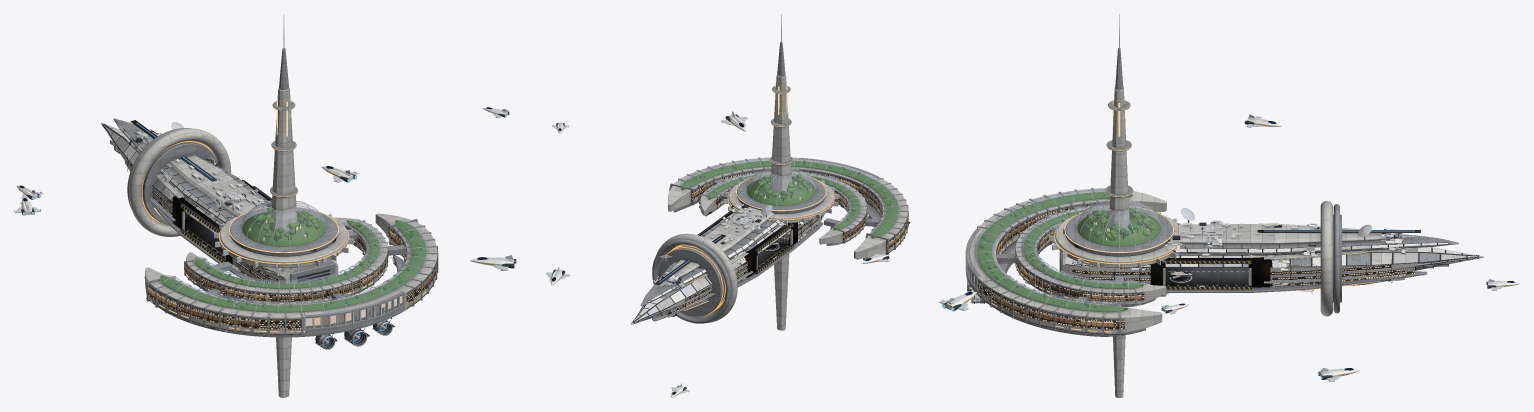
Rendered from ship.glb.
3 views of the same model, side by side, from view 1: azimuth 30°, elevation 25°; view 2: azimuth 150°, elevation 25°; view 3: azimuth 270°, elevation 25° (orthographic). The views are drawn at different scales.
Parts seen in each view (by area): view 1: ship_hull, ship_vault, ship_lawn, ship_dark, ship_glass, ship_facade, ship_small_pearl, ship_metal, ship_gallery, ship_bay, ship_small_white, ship_viewglass (+5 smaller); view 2: ship_hull, ship_vault, ship_lawn, ship_dark, ship_glass, ship_small_pearl, ship_bay, ship_small_white, ship_facade, ship_metal, ship_gallery, ship_window (+3 smaller); view 3: ship_hull, ship_vault, ship_lawn, ship_dark, ship_facade, ship_glass, ship_bay, ship_small_pearl, ship_small_white, ship_gallery, ship_metal, ship_window (+2 smaller).
Part boxes in pixels (left/top/right/bottom): ship_hull: left=101, top=48, right=438, bottom=397; ship_vault: left=159, top=219, right=428, bottom=312; ship_lawn: left=160, top=211, right=426, bottom=312; ship_dark: left=102, top=120, right=437, bottom=348; ship_glass: left=241, top=200, right=326, bottom=246; ship_facade: left=125, top=160, right=437, bottom=329; ship_small_pearl: left=110, top=122, right=405, bottom=346; ship_metal: left=136, top=14, right=428, bottom=349; ship_gallery: left=148, top=231, right=437, bottom=327; ship_bay: left=172, top=179, right=271, bottom=264; ship_small_white: left=102, top=122, right=337, bottom=276; ship_viewglass: left=306, top=295, right=404, bottom=329; ship_hull: left=630, top=42, right=908, bottom=330; ship_vault: left=680, top=158, right=900, bottom=236; ship_lawn: left=681, top=160, right=898, bottom=238; ship_dark: left=631, top=169, right=910, bottom=323; ship_glass: left=746, top=168, right=815, bottom=205; ship_small_pearl: left=647, top=172, right=903, bottom=319; ship_bay: left=699, top=211, right=797, bottom=277; ship_small_white: left=632, top=204, right=821, bottom=323; ship_facade: left=666, top=170, right=907, bottom=315; ship_metal: left=656, top=14, right=900, bottom=293; ship_gallery: left=692, top=173, right=908, bottom=247; ship_window: left=684, top=83, right=867, bottom=310; ship_hull: left=965, top=48, right=1483, bottom=397; ship_vault: left=974, top=189, right=1140, bottom=312; ship_lawn: left=977, top=192, right=1160, bottom=312; ship_dark: left=967, top=202, right=1480, bottom=334; ship_facade: left=978, top=204, right=1414, bottom=329; ship_glass: left=1077, top=200, right=1161, bottom=246; ship_bay: left=1149, top=257, right=1271, bottom=287; ship_small_pearl: left=965, top=207, right=1448, bottom=305; ship_small_white: left=1065, top=222, right=1478, bottom=293; ship_gallery: left=995, top=209, right=1142, bottom=327; ship_metal: left=967, top=14, right=1400, bottom=311; ship_window: left=1000, top=99, right=1390, bottom=332.
Bounding box in the file's own units: 83.02 × 67 × 92.37.
Materials: 35 (4 with a texture image).
